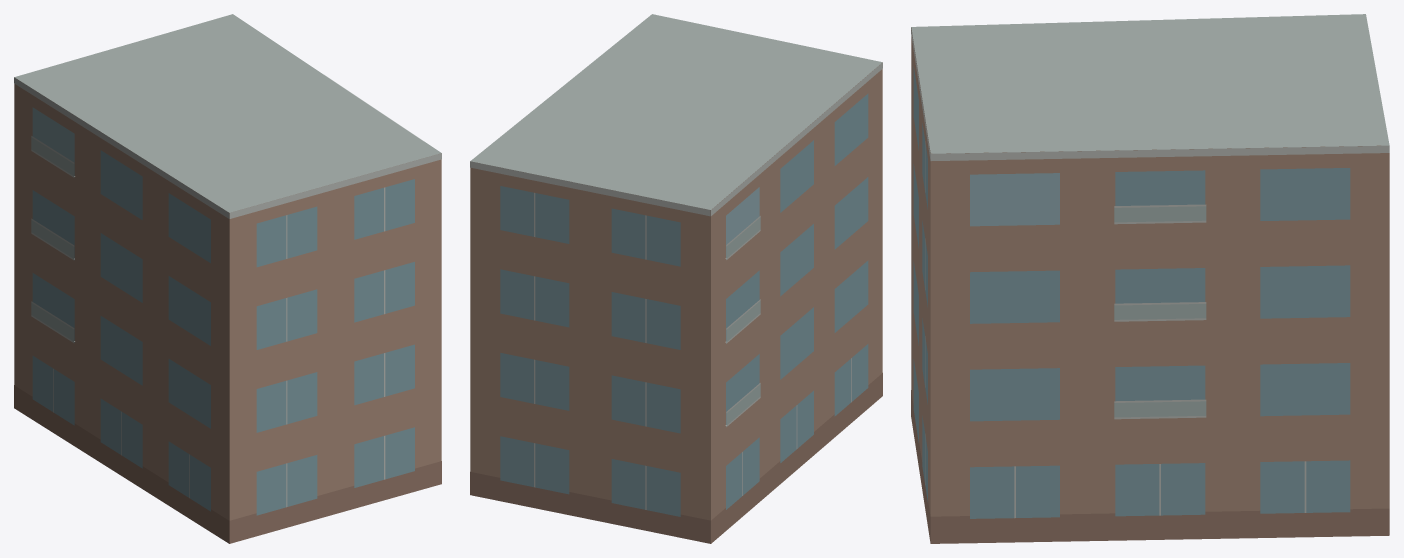
Rendered from survey-upis-32737458.glb.
The picture shows the model from 3 angles, left to right: view 1: azimuth 30°, elevation 25°; view 2: azimuth 150°, elevation 25°; view 3: azimuth 270°, elevation 25°; orthographic projection. The views are drawn at different scales.
Visible parts, largest first — view 1: survey-upis-32737458.tmp; view 2: survey-upis-32737458.tmp; view 3: survey-upis-32737458.tmp.
Boxes of the visible parts, box(x1,y1,x2,y2) form: survey-upis-32737458.tmp: box(14, 14, 441, 543); survey-upis-32737458.tmp: box(470, 14, 882, 543); survey-upis-32737458.tmp: box(911, 14, 1389, 543).
Size of the model in its own units: 9.84 by 12.8 by 14.23.
